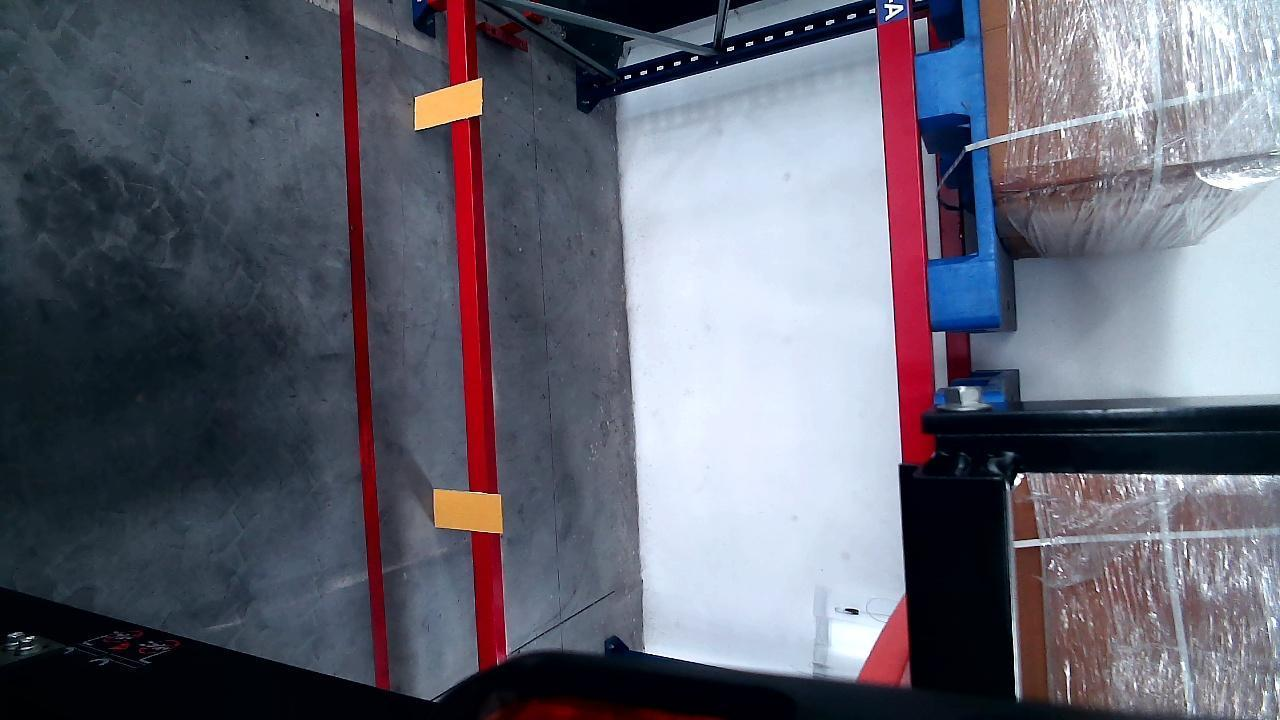h_rack: (448, 8, 501, 677), (876, 0, 932, 440)
orange_strip: (413, 78, 483, 130), (432, 487, 503, 533)
red_line: (344, 7, 384, 692)
small_pallet: (911, 0, 999, 328)
